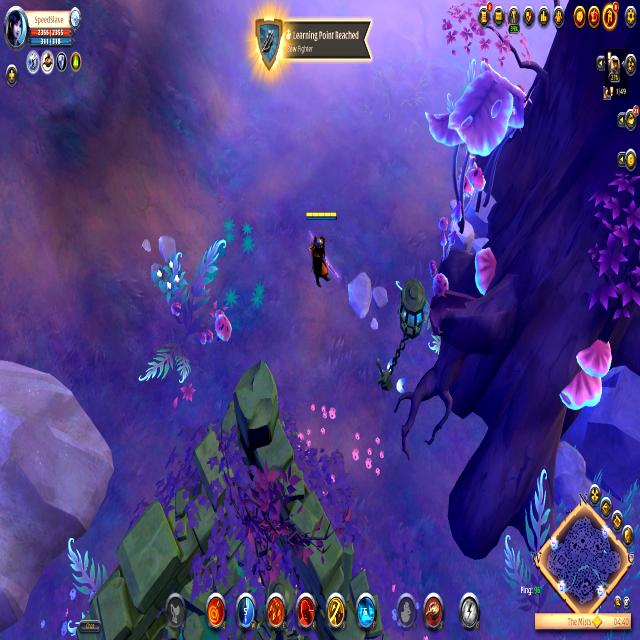10: (374, 271, 434, 389)
hide: (152, 242, 188, 306)
red: (300, 204, 341, 293)
